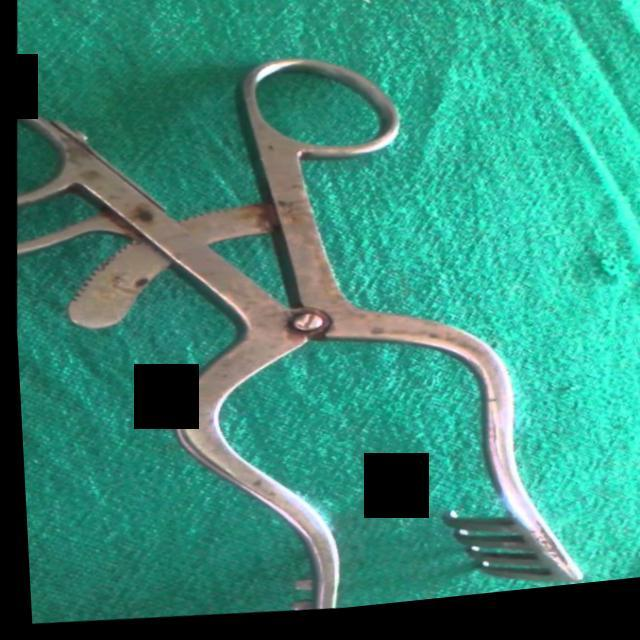Self Retractor: (2, 0, 621, 640)
